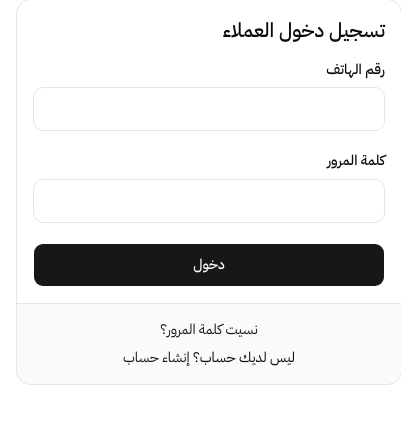
it: CustomerLoginForm › shows why an account cannot log in yet
Type "01012345678" into the field labelled "رقم الهاتف" at (209, 109), box [33,87,385,131]
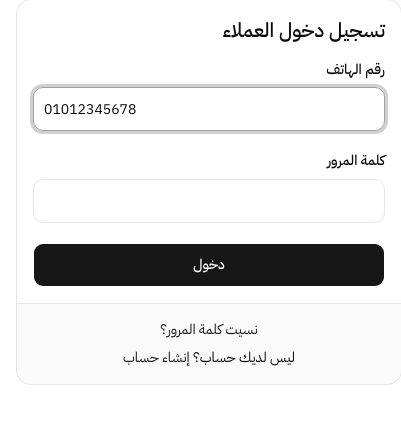
Type "password" into the password field labelled "كلمة المرور" at (209, 200), box [33,178,385,222]
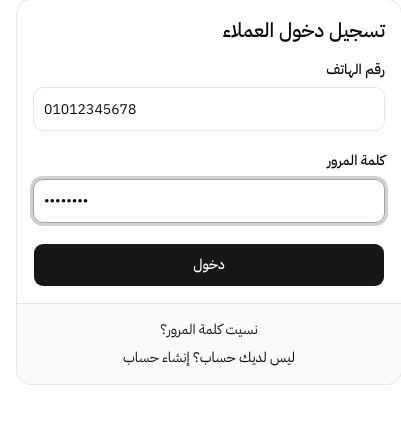
Click the button "دخول" at (209, 264), box [33,242,385,286]
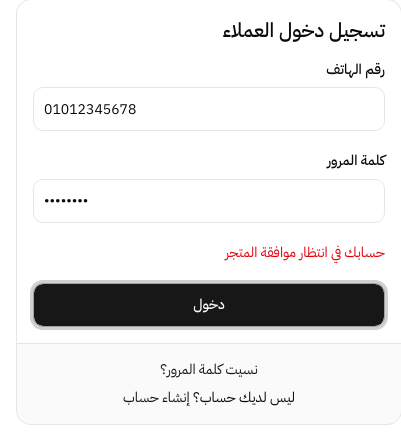
Expected: the message reads "حسابك في انتظار موافقة المتجر", [225,242,385,262]
